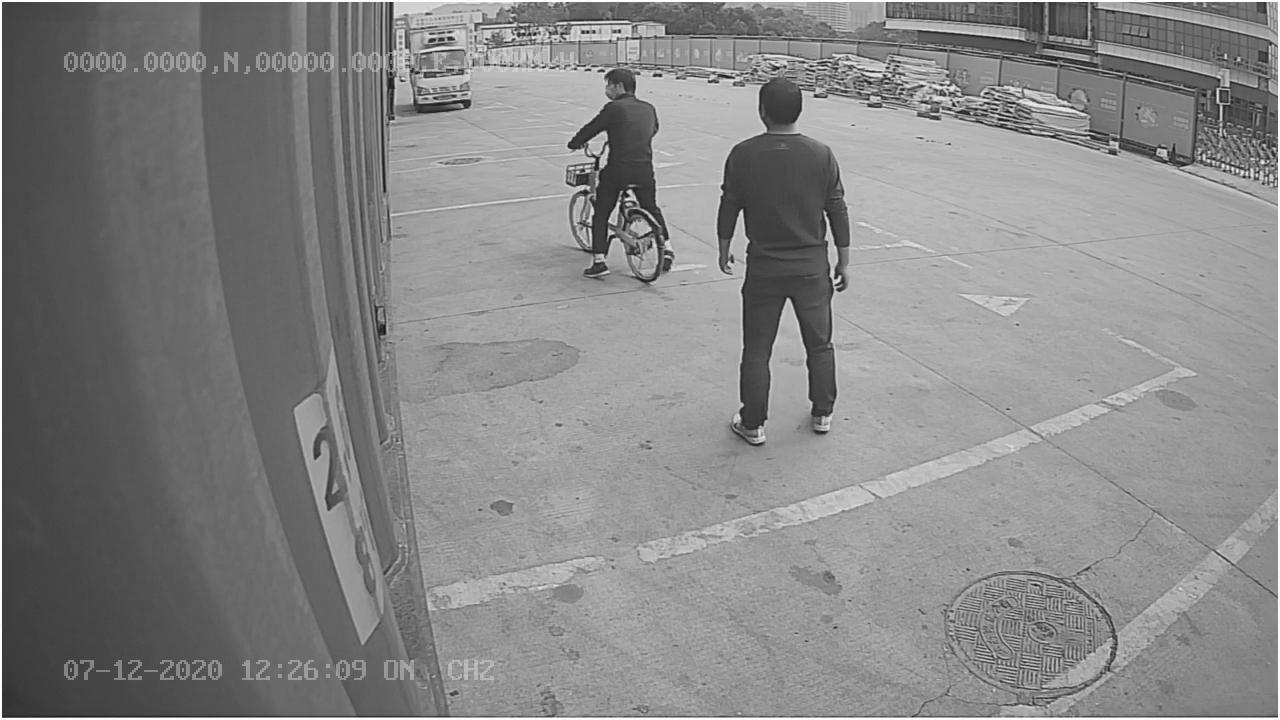person: (711, 73, 859, 452)
